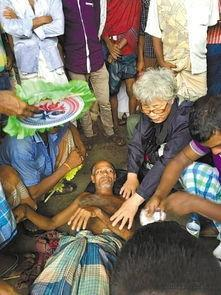Fall-Detected: (5, 148, 144, 294)
